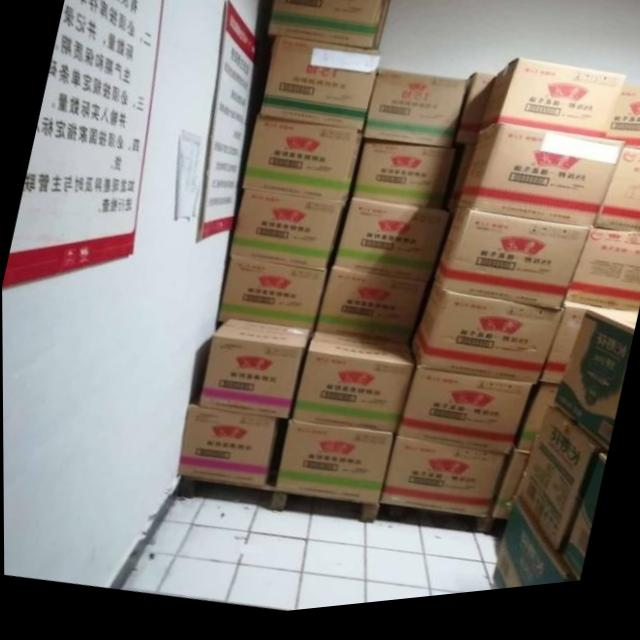box: (456, 133, 625, 240), (433, 217, 590, 324), (410, 289, 562, 394), (514, 417, 599, 568), (291, 338, 414, 441), (395, 374, 531, 466), (550, 321, 636, 464), (480, 69, 627, 151), (197, 323, 310, 425), (260, 42, 381, 137), (241, 121, 361, 211), (380, 443, 505, 527), (274, 427, 392, 511), (333, 205, 447, 291), (227, 193, 341, 278), (177, 403, 278, 492), (362, 77, 468, 157), (315, 275, 426, 351), (216, 262, 325, 336), (490, 507, 575, 600), (539, 312, 621, 398), (352, 150, 455, 218), (266, 0, 385, 57), (564, 242, 640, 325), (593, 160, 640, 247), (513, 392, 554, 462), (490, 461, 528, 527), (604, 100, 640, 162)
